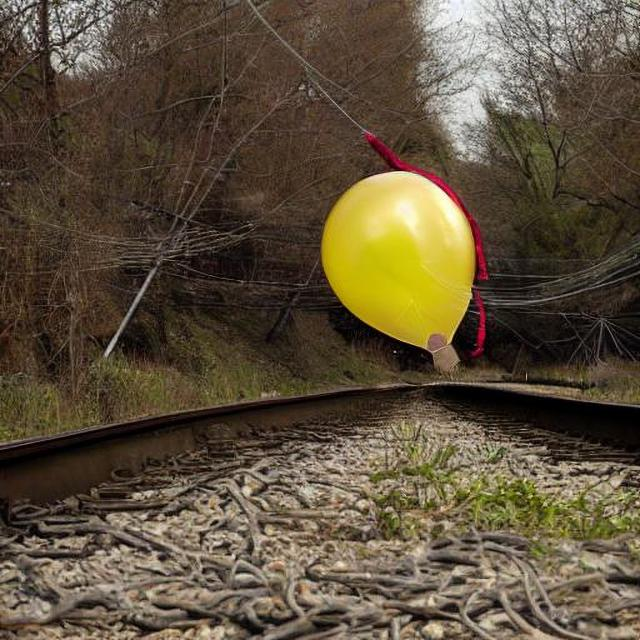balloon: (316, 155, 490, 384)
